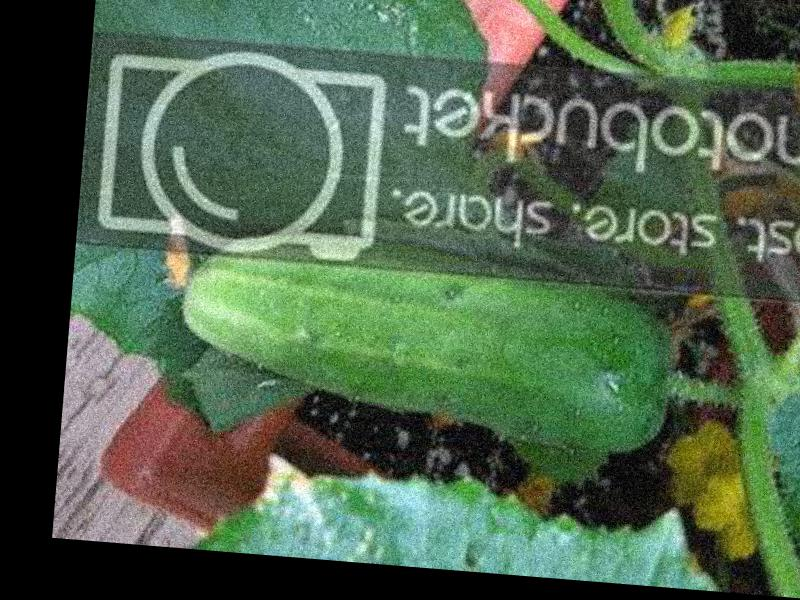Cucumber: (169, 221, 675, 458)
